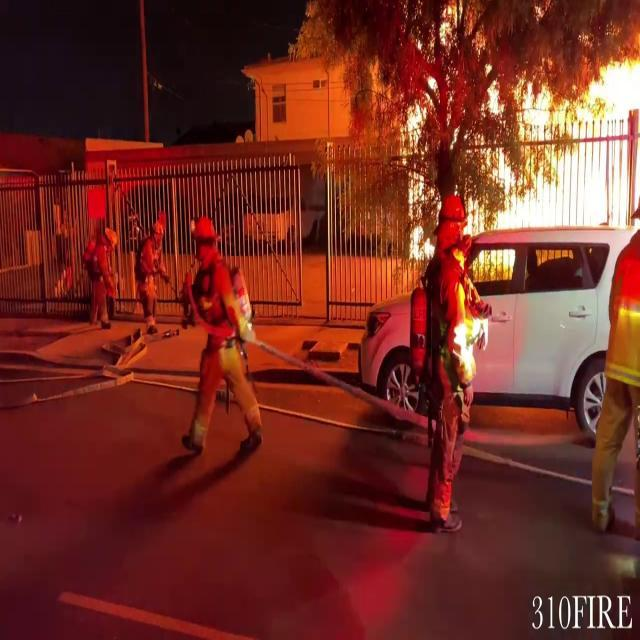Fire: (470, 8, 640, 232)
